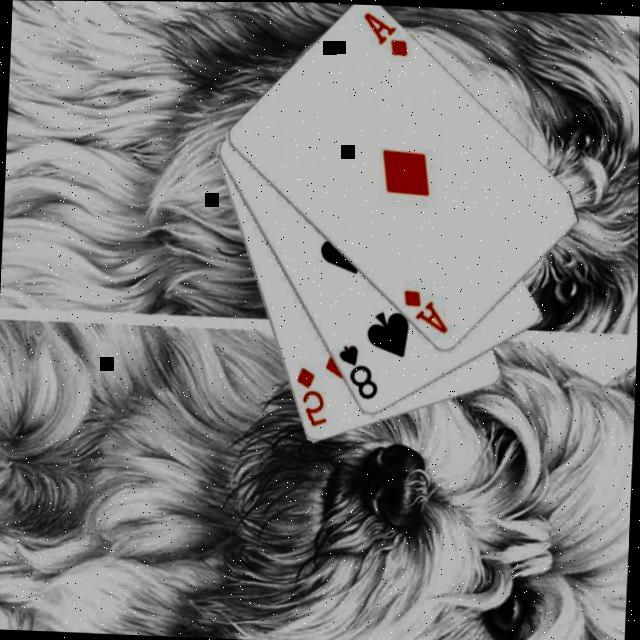5D: (293, 366, 333, 431)
8S: (334, 342, 383, 404)
AD: (399, 287, 453, 338), (360, 10, 412, 60)
